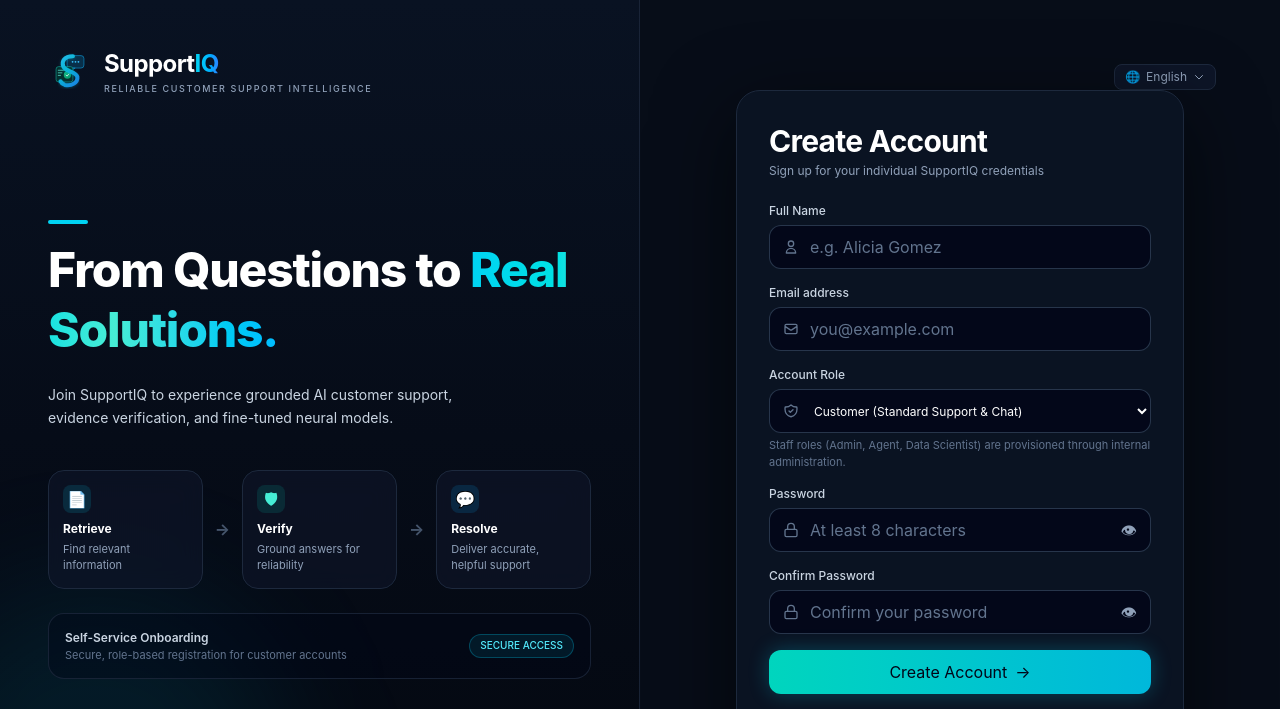
Test case: SupportIQ User Registration Workflow › shows error and blocks submission if password is less than 8 characters
In the field with placeholder "e.g. Alicia Gomez": (960, 247) [769, 225, 1151, 269], type "Alice Smith"
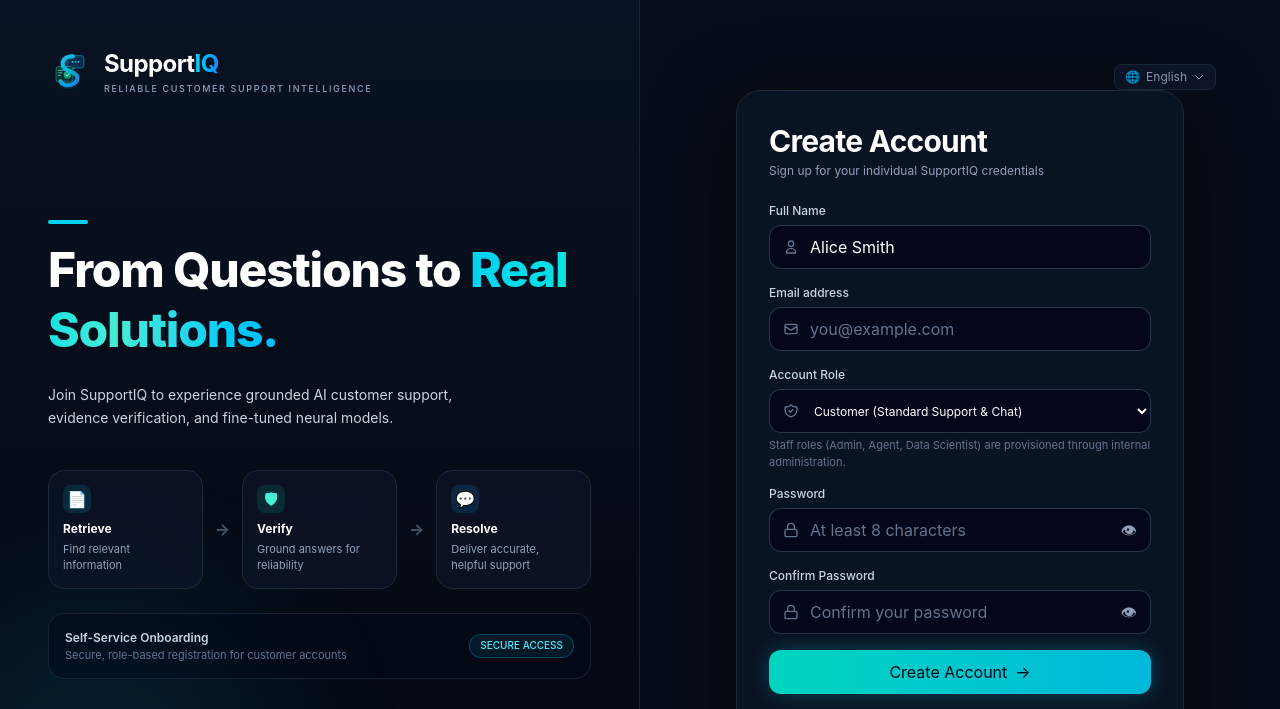
In the field with placeholder "you@example.com": (960, 329) [769, 307, 1151, 351], type "alice@example.com"
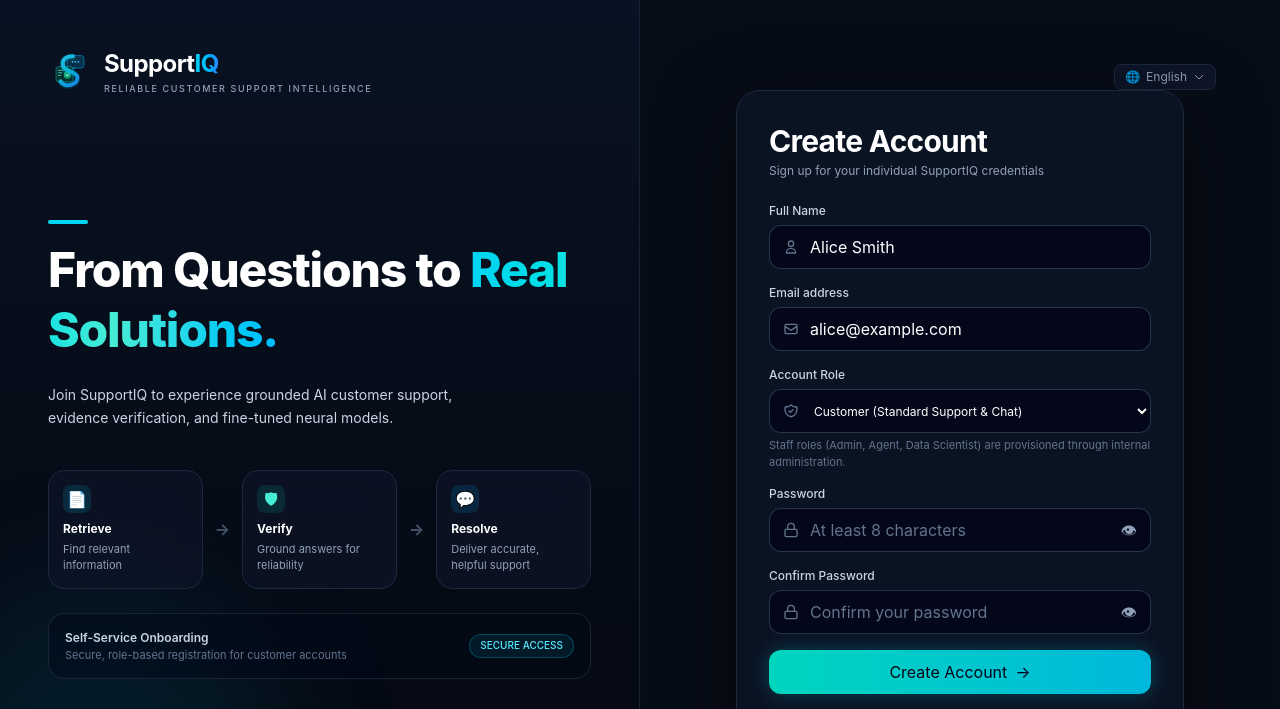
In the password field with placeholder "At least 8 characters": (960, 530) [769, 508, 1151, 552], type "short"
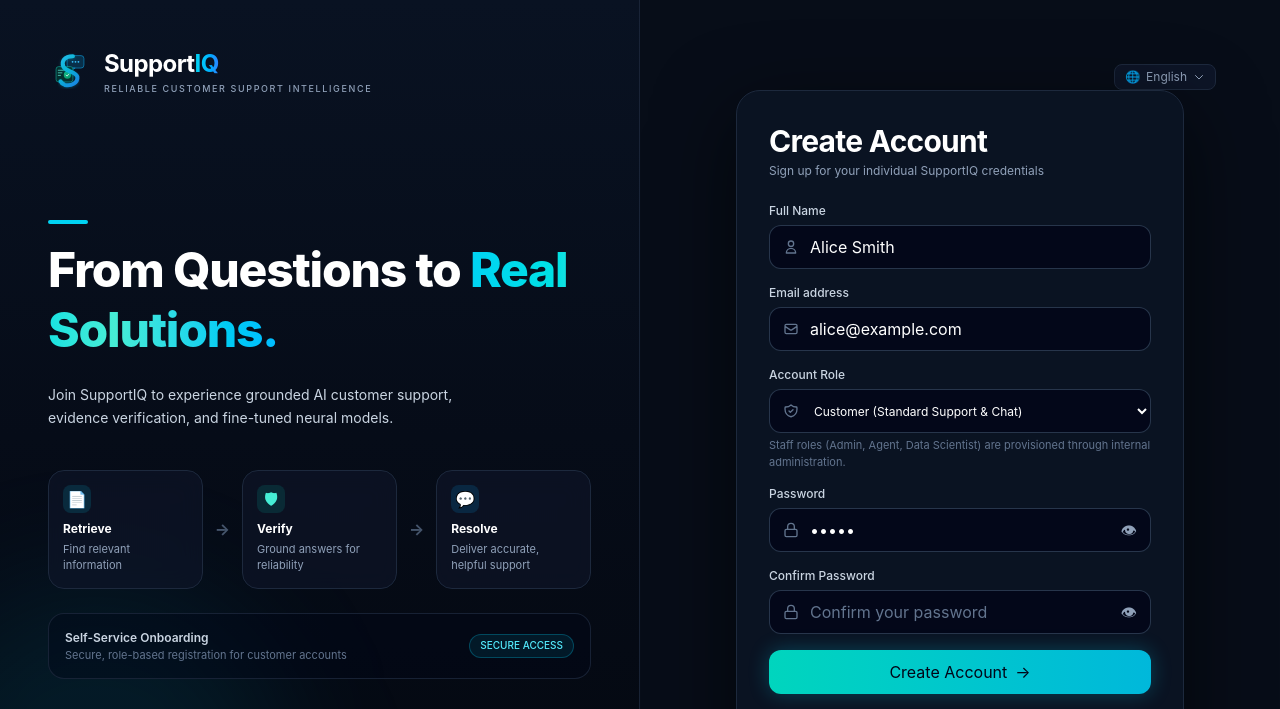
In the password field with placeholder "Confirm your password": (960, 612) [769, 590, 1151, 634], type "short"
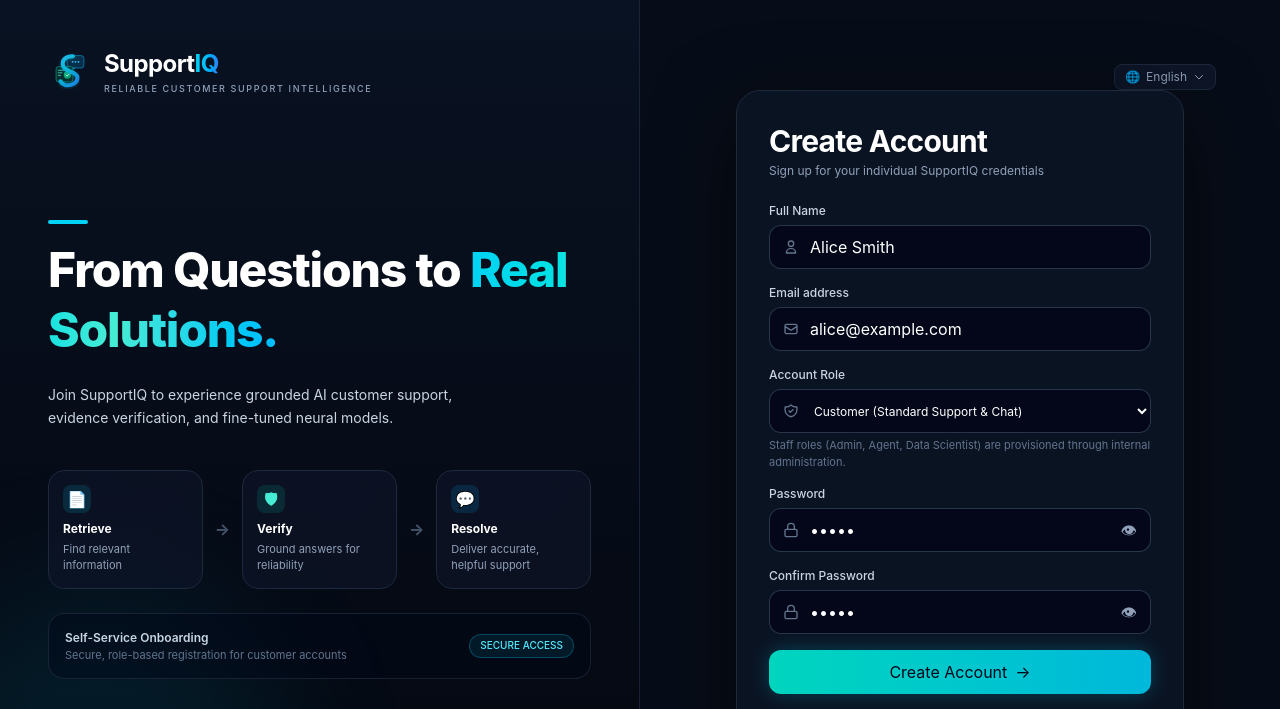
Click the button "Create Account →": (960, 672) [769, 650, 1151, 694]
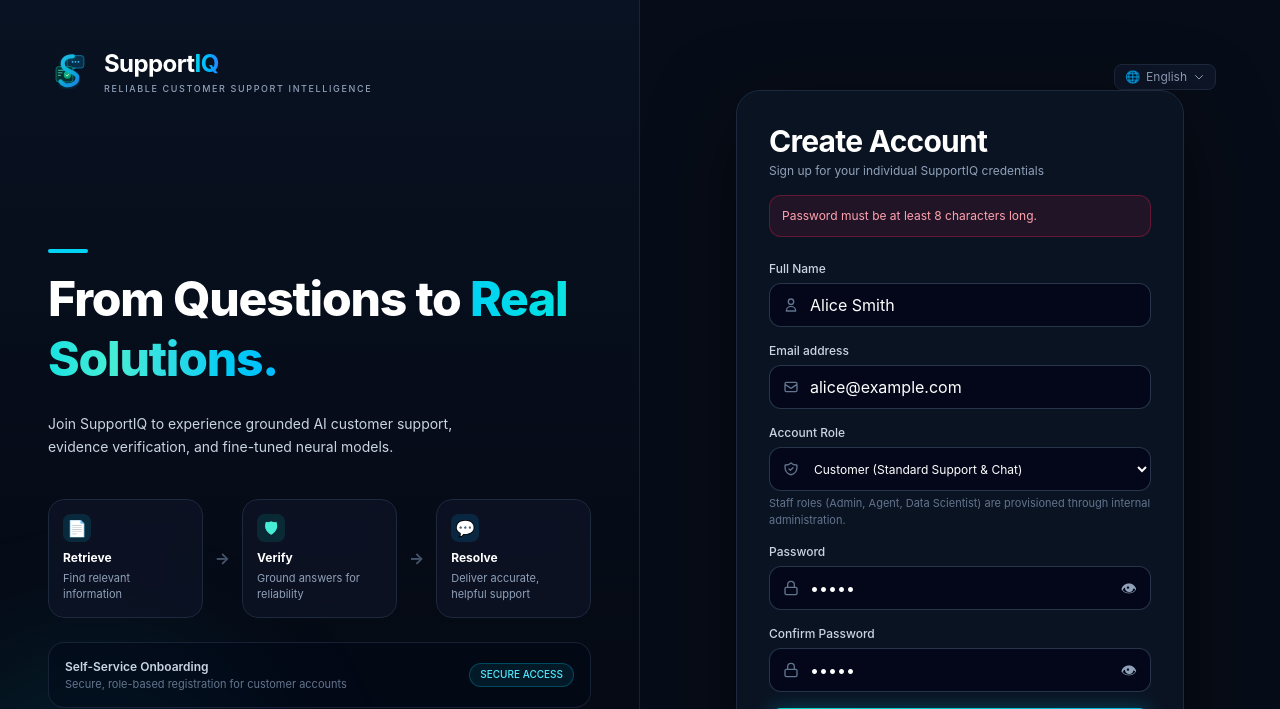
Result: the text "Password must be at least 8 characters long." is shown at [769, 195, 1151, 237]
